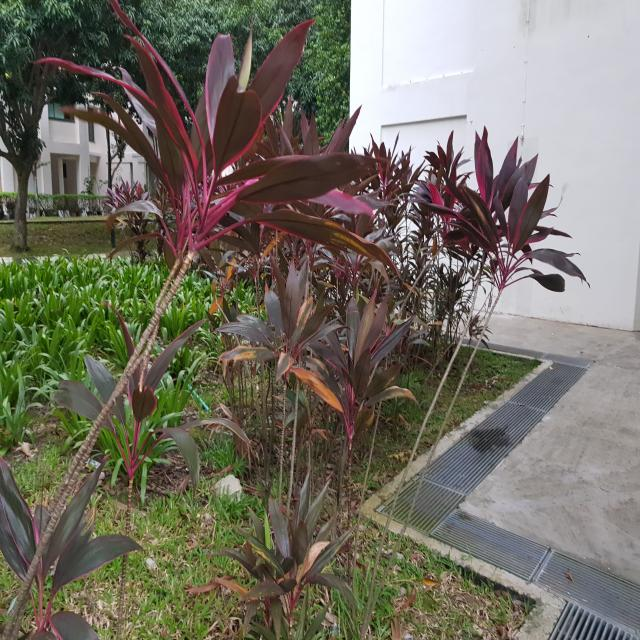Ti: (31, 2, 408, 280), (56, 296, 238, 639), (439, 120, 581, 318), (218, 261, 364, 402), (300, 288, 422, 436), (227, 487, 353, 626)
